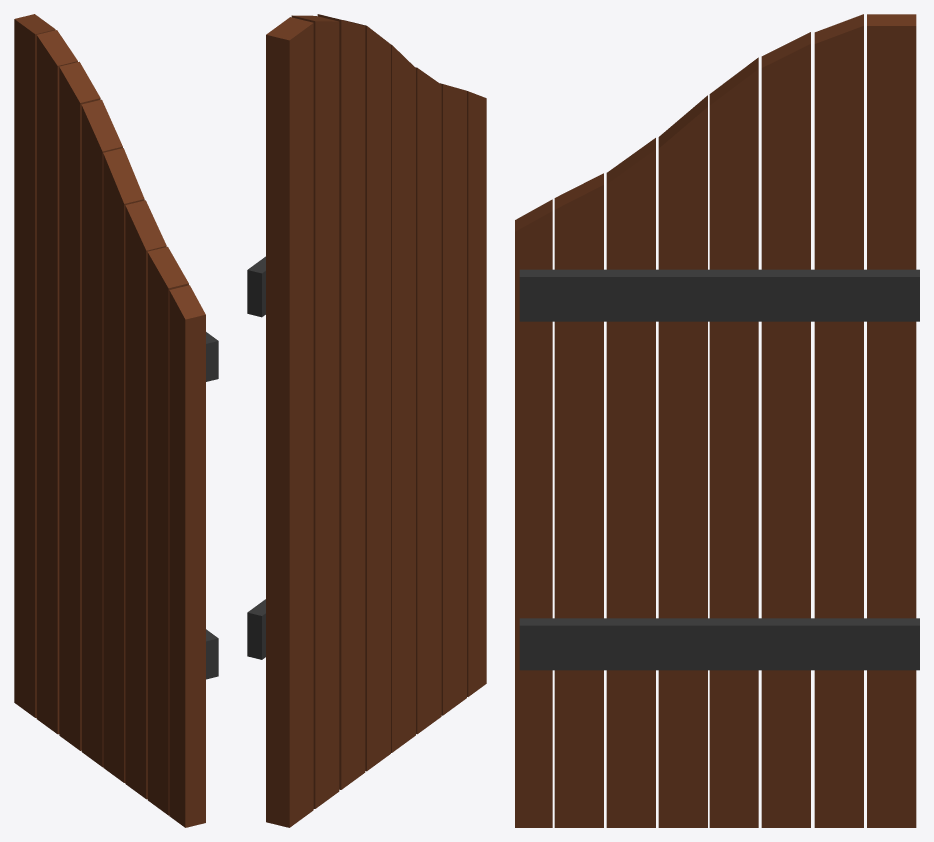
Rendered from Gate_02.fbx.
3 views of the same model, side by side, from view 1: azimuth 30°, elevation 25°; view 2: azimuth 150°, elevation 25°; view 3: azimuth 270°, elevation 25° (orthographic). The views are drawn at different scales.
Visible parts, largest first — view 1: Cube.008; view 2: Cube.008; view 3: Cube.008.
Boxes of the visible parts, x1,y1,x2,y2 form: Cube.008: (14,14,218,827); Cube.008: (247,14,486,827); Cube.008: (515,14,919,827).
Bounding box in the file's own units: 39.77 × 740 × 338.
